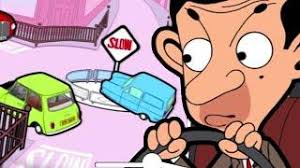mrbean: (143, 1, 300, 168)
